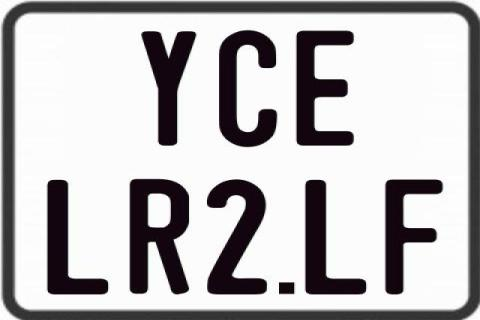0: (206, 177, 272, 295)
C: (219, 30, 282, 146)
E: (294, 29, 353, 144)
F: (383, 177, 445, 297)
L: (302, 179, 368, 299), (45, 180, 110, 298)
R: (128, 179, 188, 297)
Y: (139, 30, 196, 150)
